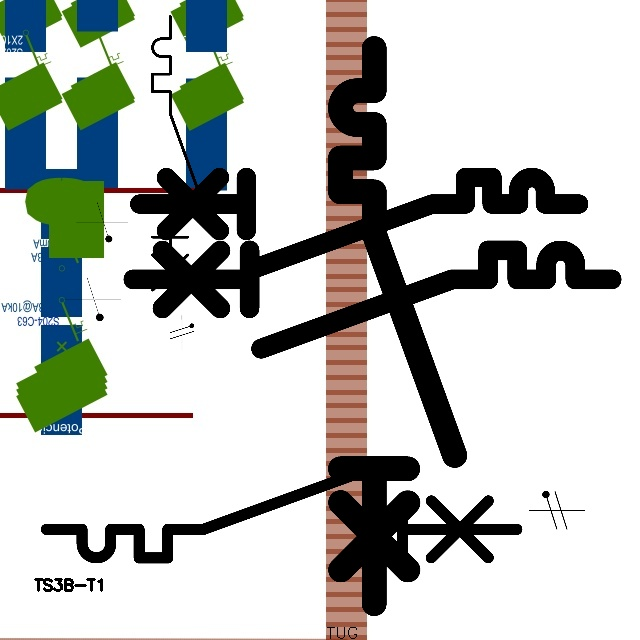interruptor_termomagnetico: (326, 34, 469, 618), (120, 238, 623, 361), (34, 449, 529, 570), (128, 166, 589, 279), (145, 9, 220, 315)
